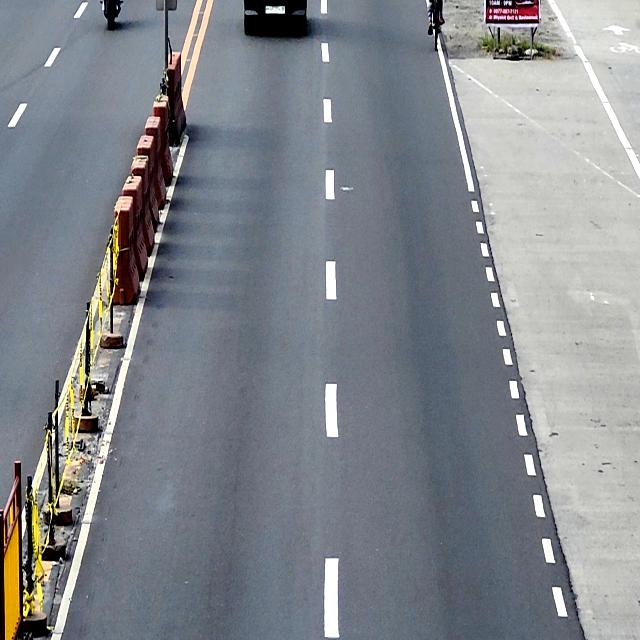Bicycle: (427, 0, 444, 52)
Car: (245, 0, 308, 38)
License-Plate: (265, 5, 285, 15)
